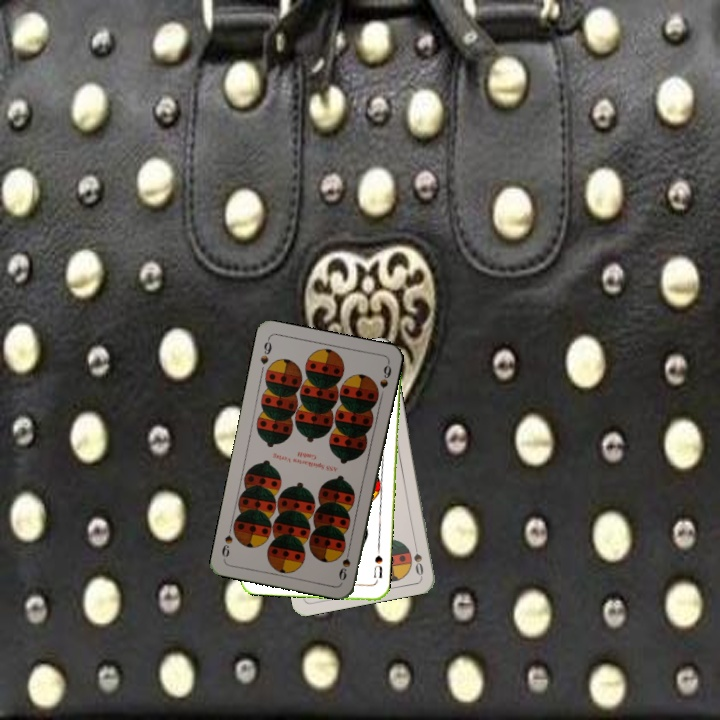S9: (335, 543, 353, 582), (256, 335, 274, 367)
SO: (410, 537, 426, 578)
SU: (370, 545, 385, 586)
